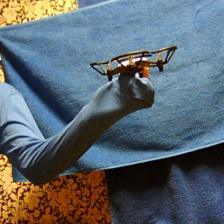drone: (87, 45, 179, 86)
